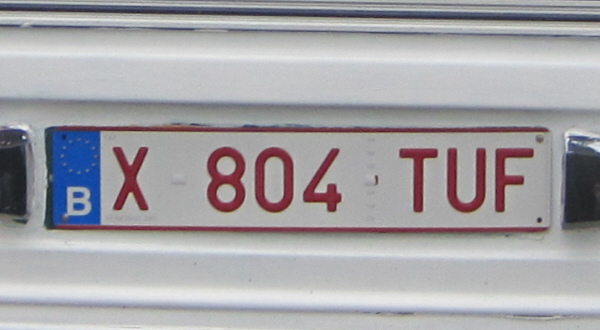license_plate: (43, 126, 553, 232)
